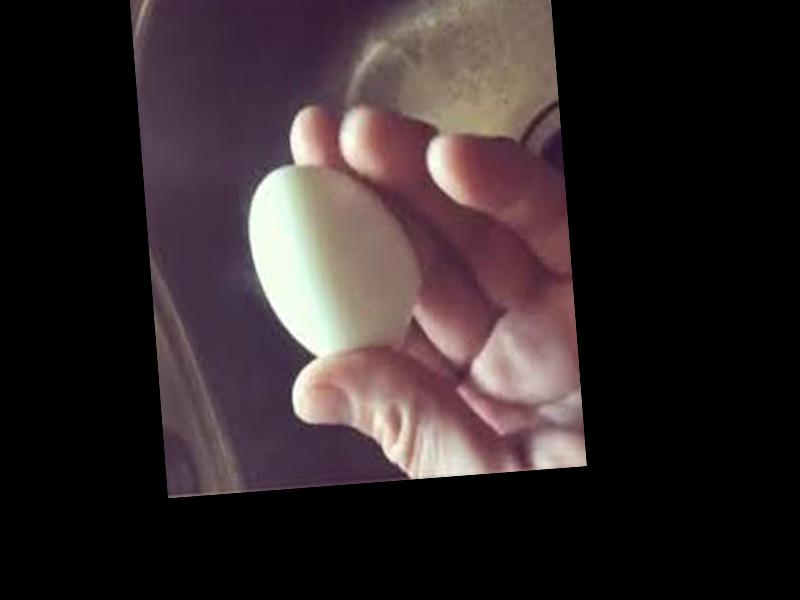Eggs: (244, 155, 423, 363)
